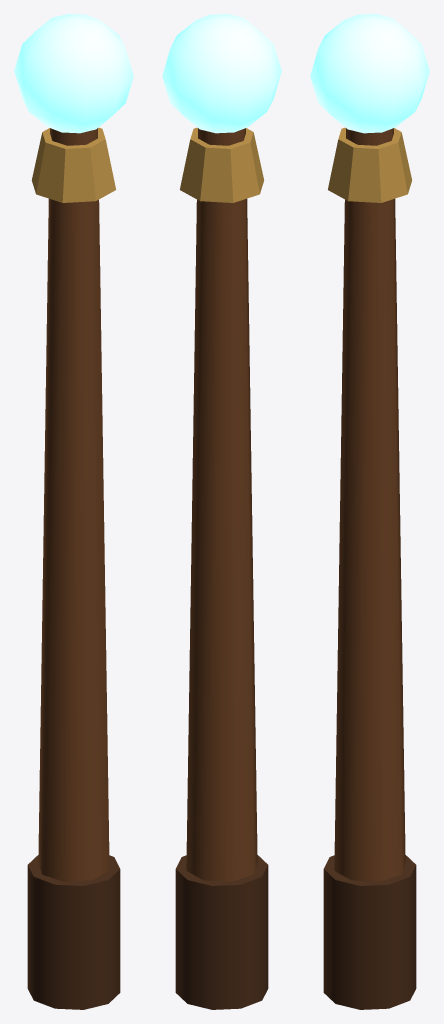
The model's file is wand.glb.
3 views of the same model, side by side, from view 1: azimuth 30°, elevation 25°; view 2: azimuth 150°, elevation 25°; view 3: azimuth 330°, elevation 25° (orthographic).
Parts seen in each view (by area): view 1: Wand_Shaft, Wand_Grip, Wand_Orb, Wand_Ferrule; view 2: Wand_Shaft, Wand_Grip, Wand_Orb, Wand_Ferrule; view 3: Wand_Shaft, Wand_Grip, Wand_Orb, Wand_Ferrule.
Part boxes in pixels (box(x1,y1,x2,y2)): Wand_Shaft: box(38, 128, 109, 881); Wand_Grip: box(27, 855, 120, 1009); Wand_Orb: box(14, 14, 133, 133); Wand_Ferrule: box(31, 127, 115, 202); Wand_Shaft: box(186, 128, 257, 881); Wand_Grip: box(175, 855, 268, 1009); Wand_Orb: box(162, 14, 281, 133); Wand_Ferrule: box(180, 127, 264, 202); Wand_Shaft: box(334, 128, 405, 881); Wand_Grip: box(323, 855, 416, 1009); Wand_Orb: box(310, 14, 429, 133); Wand_Ferrule: box(328, 127, 412, 202).
Size of the model in its own units: 0.044 by 0.392 by 0.0418.
